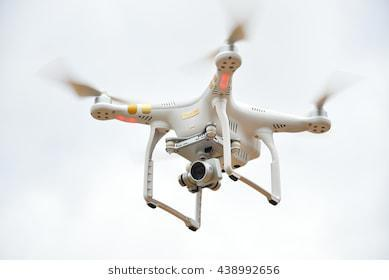drone: (0, 1, 389, 246)
